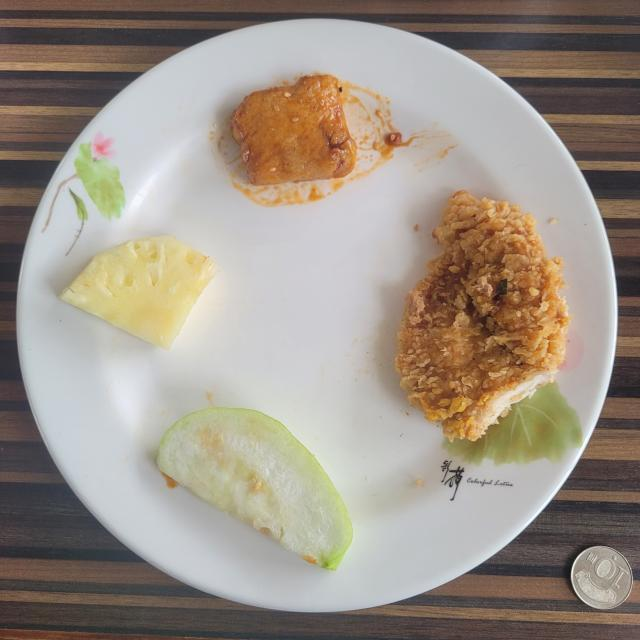coin: (570, 546, 632, 610)
creamy tofu: (231, 75, 356, 185)
fried chicken cutlet: (395, 190, 571, 441)
guava -sliced-: (158, 408, 352, 570)
pineapple: (59, 236, 216, 350)
